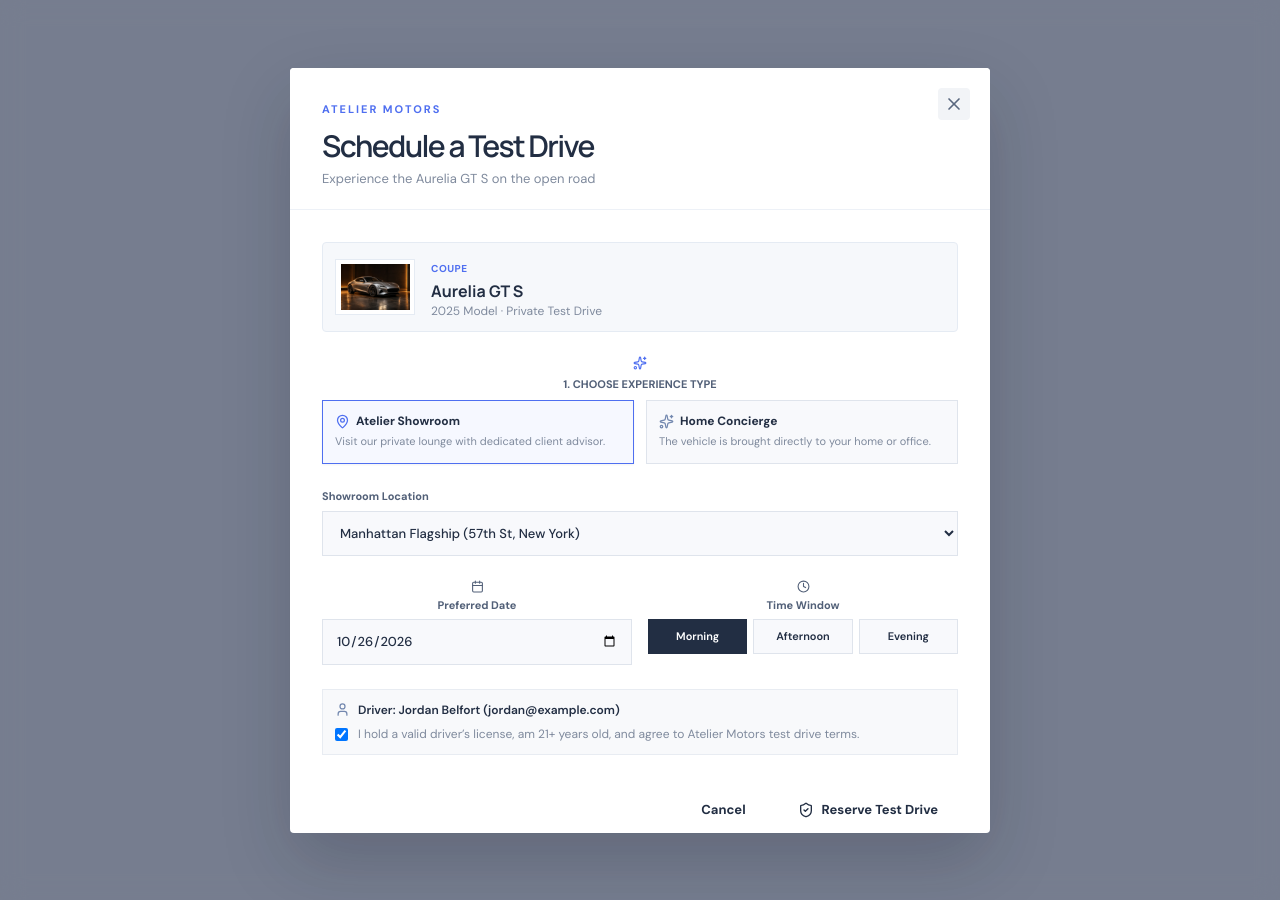
Scenario: TestDriveModal › allows switching to Home Concierge experience and entering delivery address
The image size is (1280, 900).
Click the text "Home Concierge".
click(718, 421)  # box [659, 413, 778, 429]
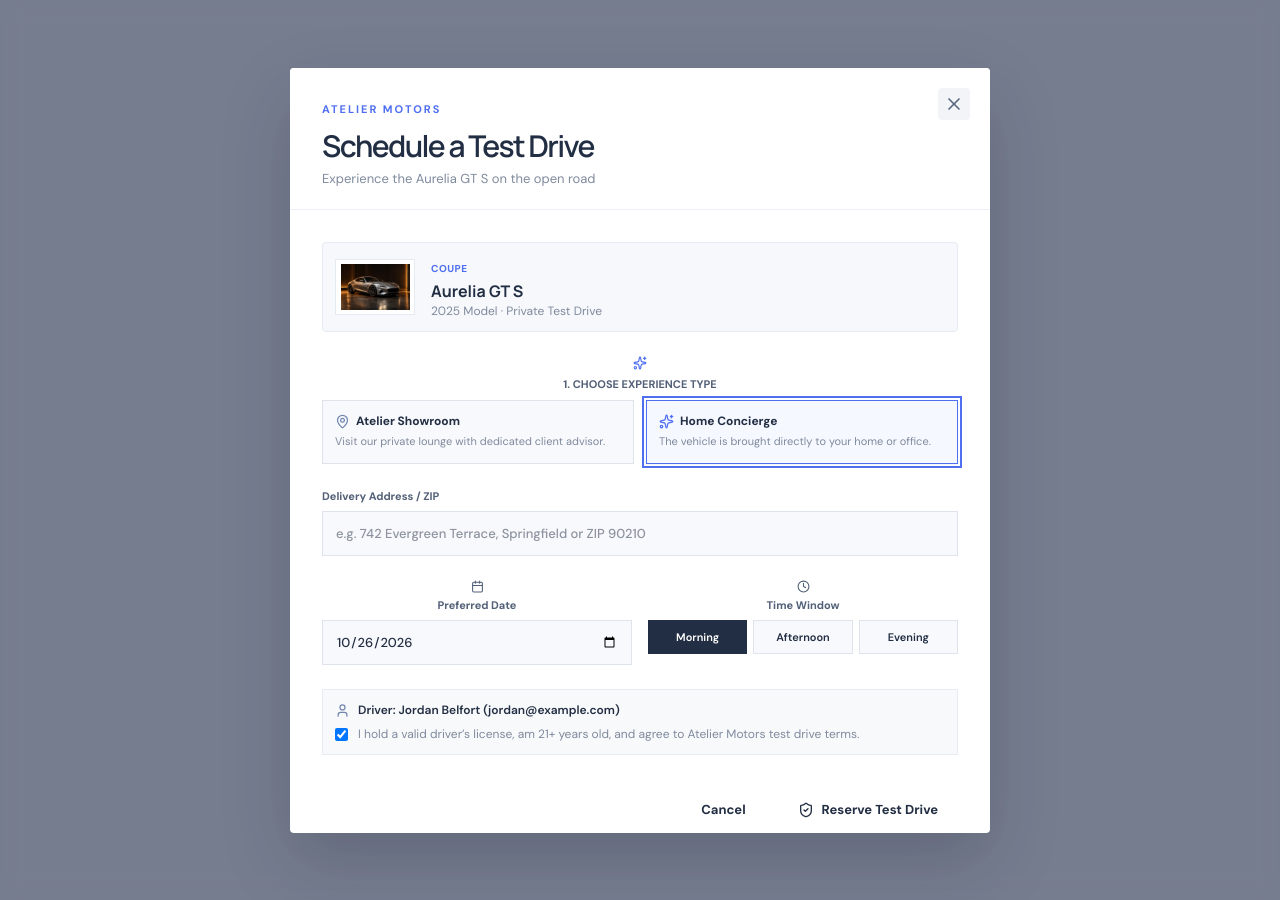
Expected: the field labelled "Delivery Address / ZIP" is shown, [322, 510, 958, 556]
Expected: the label labelled "Showroom Location" is gone
